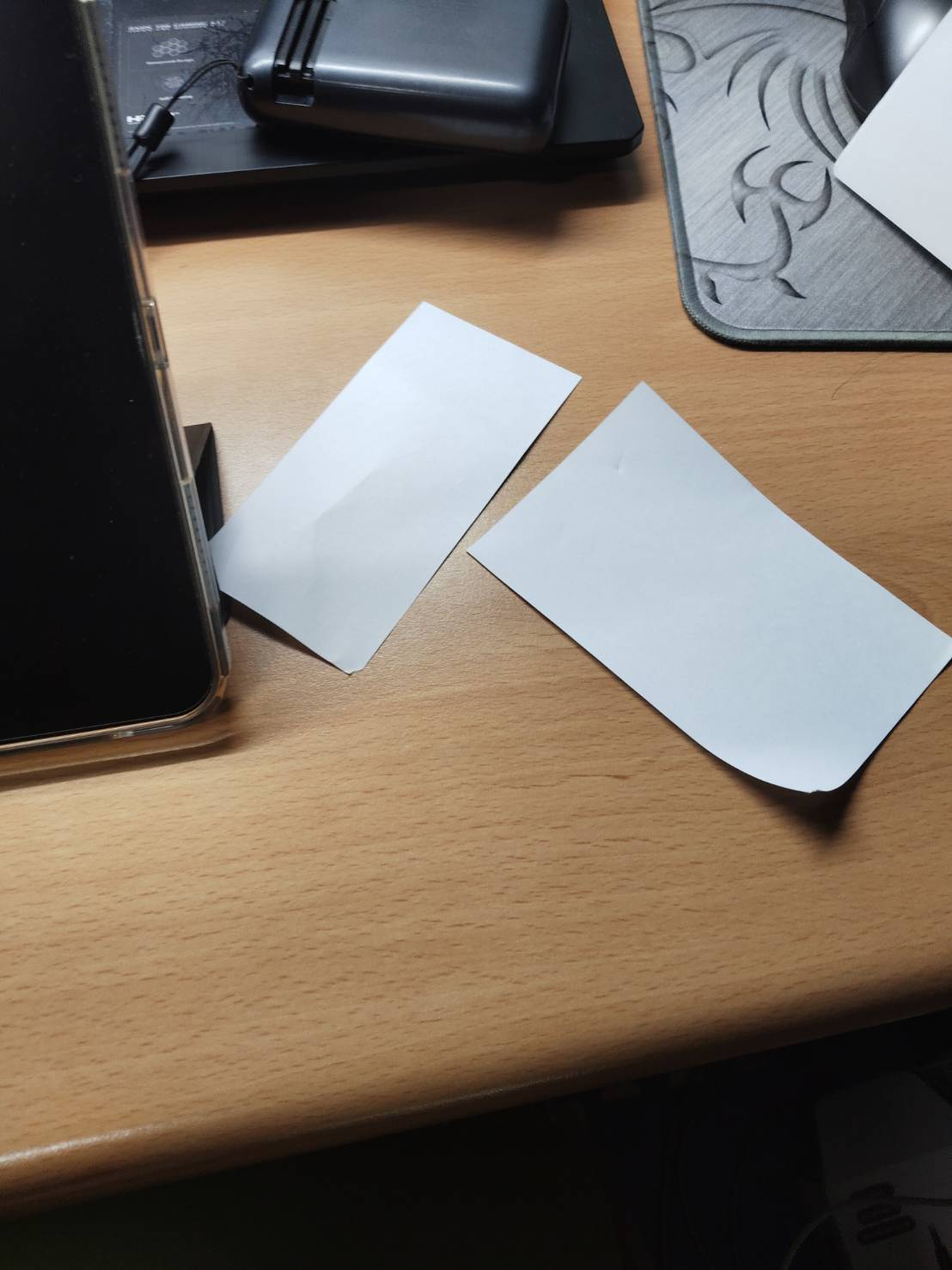paper: (475, 327, 952, 891), (163, 224, 587, 777)
